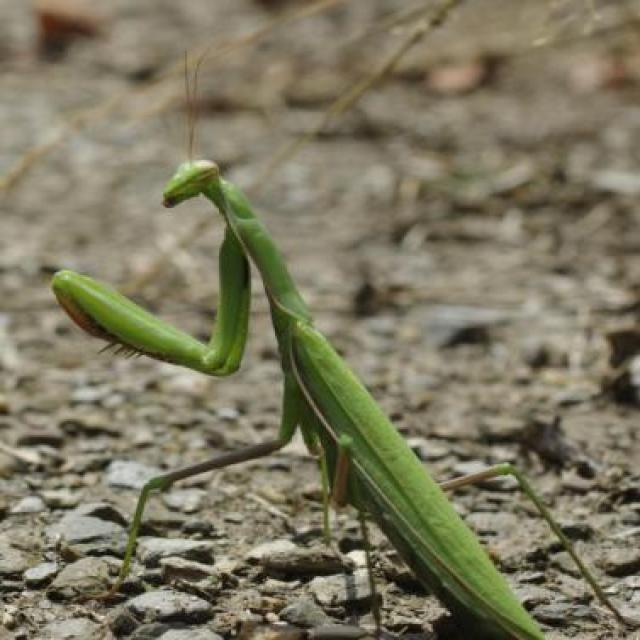antennae: (188, 42, 211, 160), (181, 45, 190, 162)
body: (163, 155, 529, 634)
insect: (46, 35, 635, 640)
legs: (106, 373, 298, 599), (434, 459, 631, 638), (58, 229, 258, 371), (312, 419, 414, 640)
mouthpart: (160, 185, 181, 214)
wings: (294, 316, 533, 640)
